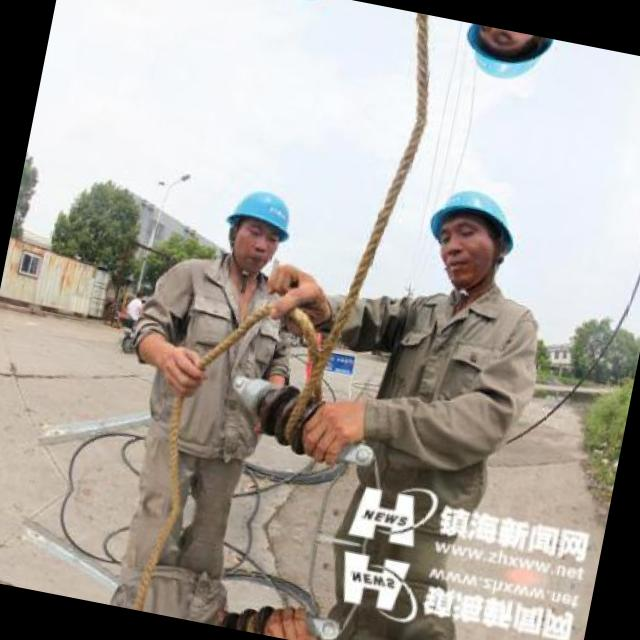helmet: (412, 166, 532, 298), (212, 174, 304, 278), (450, 21, 561, 106), (262, 0, 341, 16)
